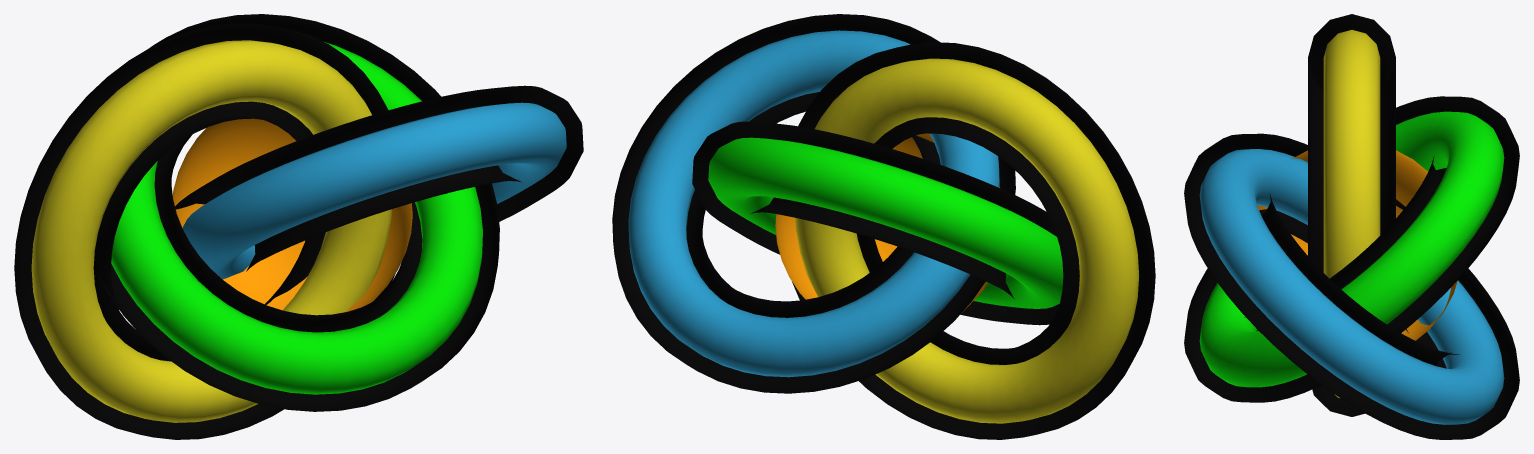
File: two_way_spiral_tutorial_03a.glb
The picture shows the model from 3 angles, left to right: view 1: azimuth 30°, elevation 25°; view 2: azimuth 150°, elevation 25°; view 3: azimuth 270°, elevation 25°; orthographic projection. The views are drawn at different scales.
Parts seen in each view (by area): view 1: Torus.345, Torus.347, Torus.346, Sphere; view 2: Torus.345, Torus.346, Torus.347, Sphere; view 3: Torus.346, Torus.347, Torus.345, Sphere.
Part boxes in pixels (x1,y1,x2,y2): Torus.345: (14, 23, 395, 439); Torus.347: (97, 14, 499, 411); Torus.346: (175, 85, 583, 279); Sphere: (172, 118, 412, 312); Torus.345: (792, 42, 1155, 439); Torus.346: (612, 14, 1015, 393); Torus.347: (692, 121, 1063, 325); Sphere: (775, 133, 999, 312); Torus.346: (1184, 133, 1519, 439); Torus.347: (1184, 96, 1519, 402); Torus.345: (1308, 14, 1395, 416); Sphere: (1257, 150, 1457, 340).
Size of the model in its own units: 3.63 by 2.56 by 2.13.
